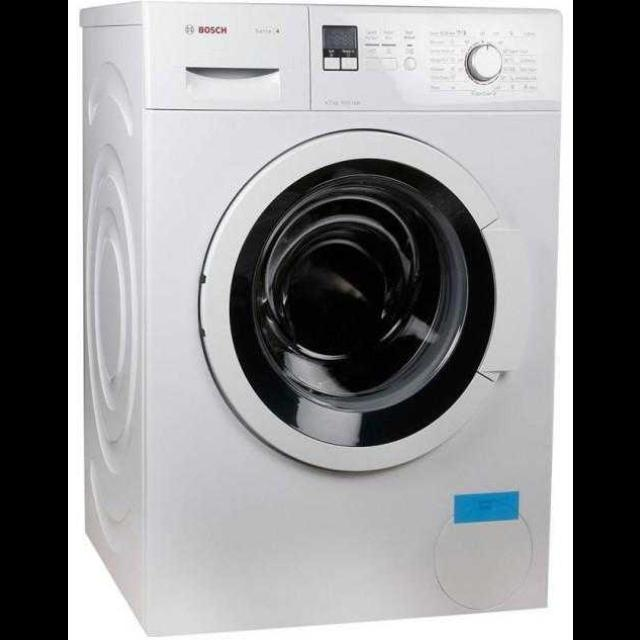Washing-Machine: (77, 0, 549, 610)
